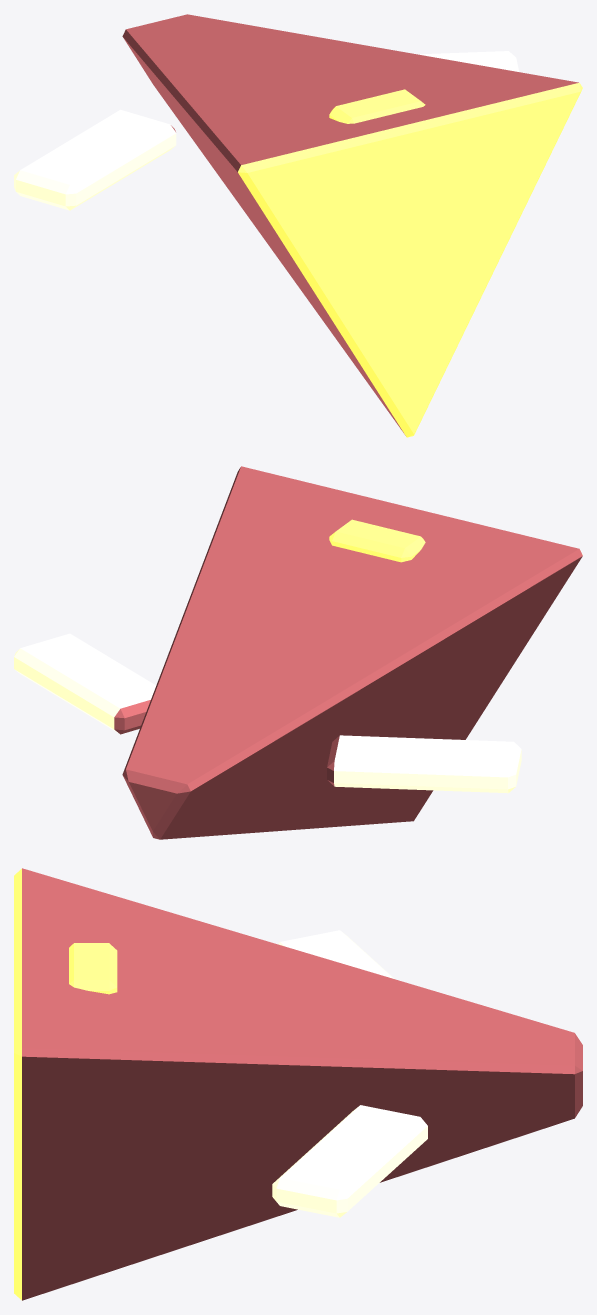
File: Enemy_SwarmPod.fbx
The picture shows the model from 3 angles, top to bottom: view 1: azimuth 30°, elevation 25°; view 2: azimuth 150°, elevation 25°; view 3: azimuth 270°, elevation 25°; orthographic projection. The views are drawn at different scales.
Parts seen in each view (by area): view 1: Enemy_SwarmPod; view 2: Enemy_SwarmPod; view 3: Enemy_SwarmPod.
Boxes of the visible parts, x1,y1,x2,y2 form: Enemy_SwarmPod: [14, 14, 582, 437]; Enemy_SwarmPod: [14, 466, 582, 839]; Enemy_SwarmPod: [14, 868, 582, 1300].
Size of the model in its own units: 0.6083 by 0.3635 by 0.55.
